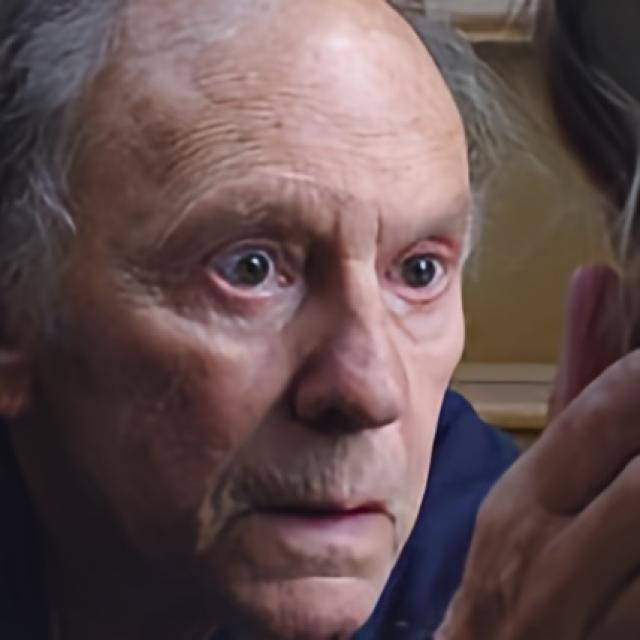Fear: (36, 3, 472, 640)
